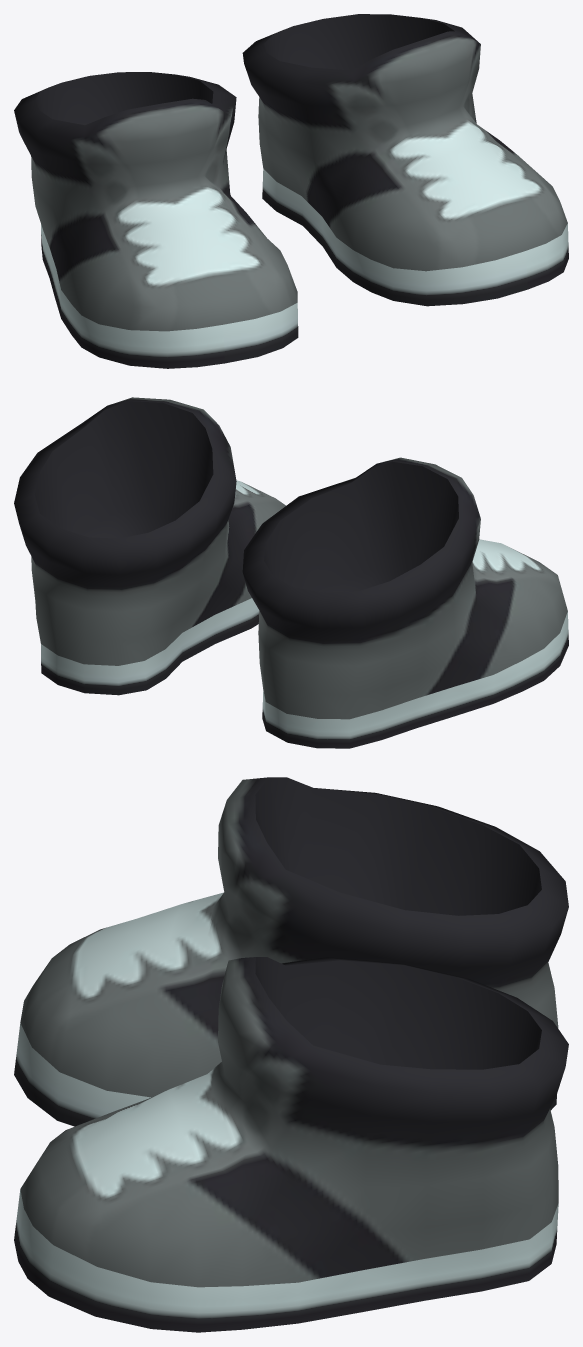
File: ShoesHighcutSneaker0.glb
3 views of the same model, one above another, from view 1: azimuth 30°, elevation 25°; view 2: azimuth 150°, elevation 25°; view 3: azimuth 270°, elevation 25° (orthographic). The views are drawn at different scales.
Visible parts, largest first — view 1: Body__mShoes; view 2: Body__mShoes; view 3: Body__mShoes.
Boxes of the visible parts, box(x1,y1,x2,y2) form: Body__mShoes: box(14, 14, 568, 368); Body__mShoes: box(14, 397, 568, 748); Body__mShoes: box(14, 777, 568, 1332).
Bounding box in the file's own units: 3.34 × 1.42 × 2.46.
1 material, 1 textured.
